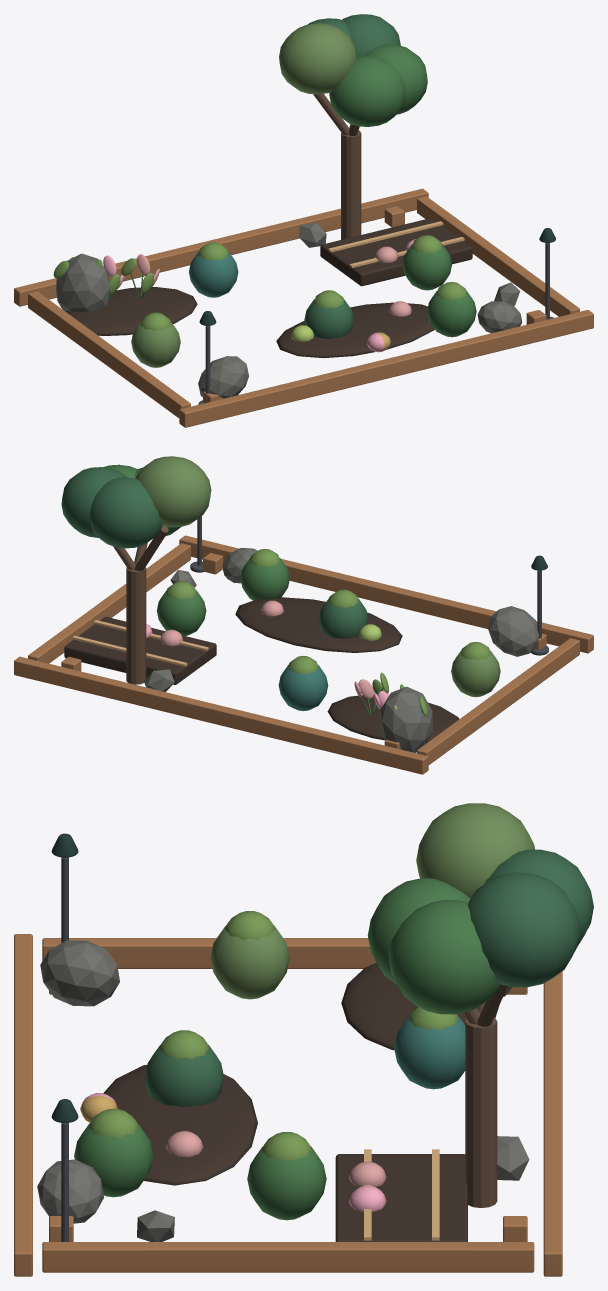
The model's file is garden_ready_tree_rocks.glb.
3 views of the same model, one above another, from view 1: azimuth 30°, elevation 25°; view 2: azimuth 150°, elevation 25°; view 3: azimuth 270°, elevation 25° (orthographic). The views are drawn at different scales.
Visible parts, largest first — view 1: Tint, Shaped bed.007, Tree foliage.007, Kitchen bed.003, Tree foliage.005, Shaped bed.006, Border rock.005, Tree trunk.001, Tree foliage.008, Shrub.019, Shrub.016, Shrub.017 (+7 smaller); view 2: Tint, Shaped bed.007, Kitchen bed.003, Tree foliage.009, Tree foliage.007, Border rock.005, Tree trunk.001, Shaped bed.006, Tree foliage.006, Border rock.008, Shrub.018, Shrub.017 (+12 smaller); view 3: Tint, Tree foliage.006, Kitchen bed.003, Tree foliage.008, Shaped bed.007, Tree foliage.007, Tree trunk.001, Shrub.018, Shrub.016, Border rock.008, Shrub.017, Shaped bed.006 (+18 smaller).
Boxes of the visible parts, box(x1,y1,x2,y2) form: Tint: box(14, 188, 593, 427); Shaped bed.007: box(276, 302, 434, 358); Tree foliage.007: box(279, 23, 356, 94); Kitchen bed.003: box(320, 218, 472, 286); Tree foliage.005: box(329, 56, 405, 126); Shaped bed.006: box(66, 287, 197, 335); Border rock.005: box(56, 253, 110, 312); Tree trunk.001: box(341, 130, 361, 239); Tree foliage.008: box(364, 44, 427, 114); Shrub.019: box(427, 291, 476, 337); Shrub.016: box(402, 244, 451, 290); Shrub.017: box(189, 251, 238, 297); Tint: box(14, 535, 593, 774); Shaped bed.007: box(235, 597, 402, 652); Kitchen bed.003: box(64, 617, 216, 684); Tree foliage.009: box(89, 477, 162, 548); Tree foliage.007: box(135, 456, 211, 527); Border rock.005: box(380, 686, 432, 752); Tree trunk.001: box(126, 567, 146, 684); Shaped bed.006: box(327, 695, 458, 742); Tree foliage.006: box(61, 467, 126, 537); Border rock.008: box(488, 606, 539, 656); Shrub.018: box(451, 650, 500, 697); Shrub.017: box(278, 665, 328, 711); Tint: box(14, 934, 562, 1276); Tree foliage.006: box(467, 872, 580, 987); Kitchen bed.003: box(335, 1154, 467, 1241); Tree foliage.008: box(388, 900, 500, 1014); Shaped bed.007: box(103, 1065, 257, 1185); Tree foliage.007: box(416, 803, 534, 898); Tree trunk.001: box(465, 1017, 497, 1207); Shrub.018: box(210, 925, 289, 999); Shrub.016: box(247, 1146, 326, 1220); Border rock.008: box(40, 940, 119, 1006); Shrub.017: box(394, 1015, 465, 1089); Shaped bed.006: box(341, 963, 498, 1050).
Bounding box in the file's own units: 4 × 2.19 × 3.07.
